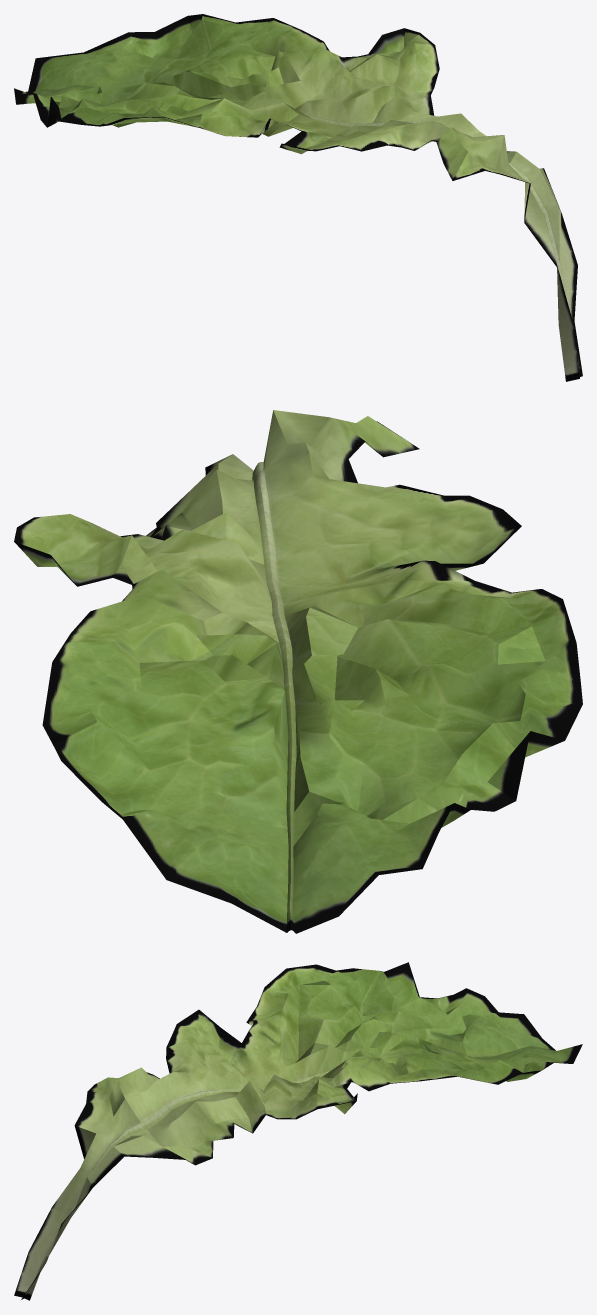
File: Lettuce2.fbx
3 views of the same model, one above another, from view 1: azimuth 30°, elevation 25°; view 2: azimuth 150°, elevation 25°; view 3: azimuth 270°, elevation 25° (orthographic). The views are drawn at different scales.
Parts seen in each view (by area): view 1: lettuce2_1.002; view 2: lettuce2_1.002; view 3: lettuce2_1.002.
Part boxes in pixels (box(x1,y1,x2,y2)): lettuce2_1.002: box(14, 14, 582, 381); lettuce2_1.002: box(14, 410, 582, 933); lettuce2_1.002: box(14, 962, 582, 1300).
Bounding box in the file's own units: 6.17 × 3.85 × 9.41.
